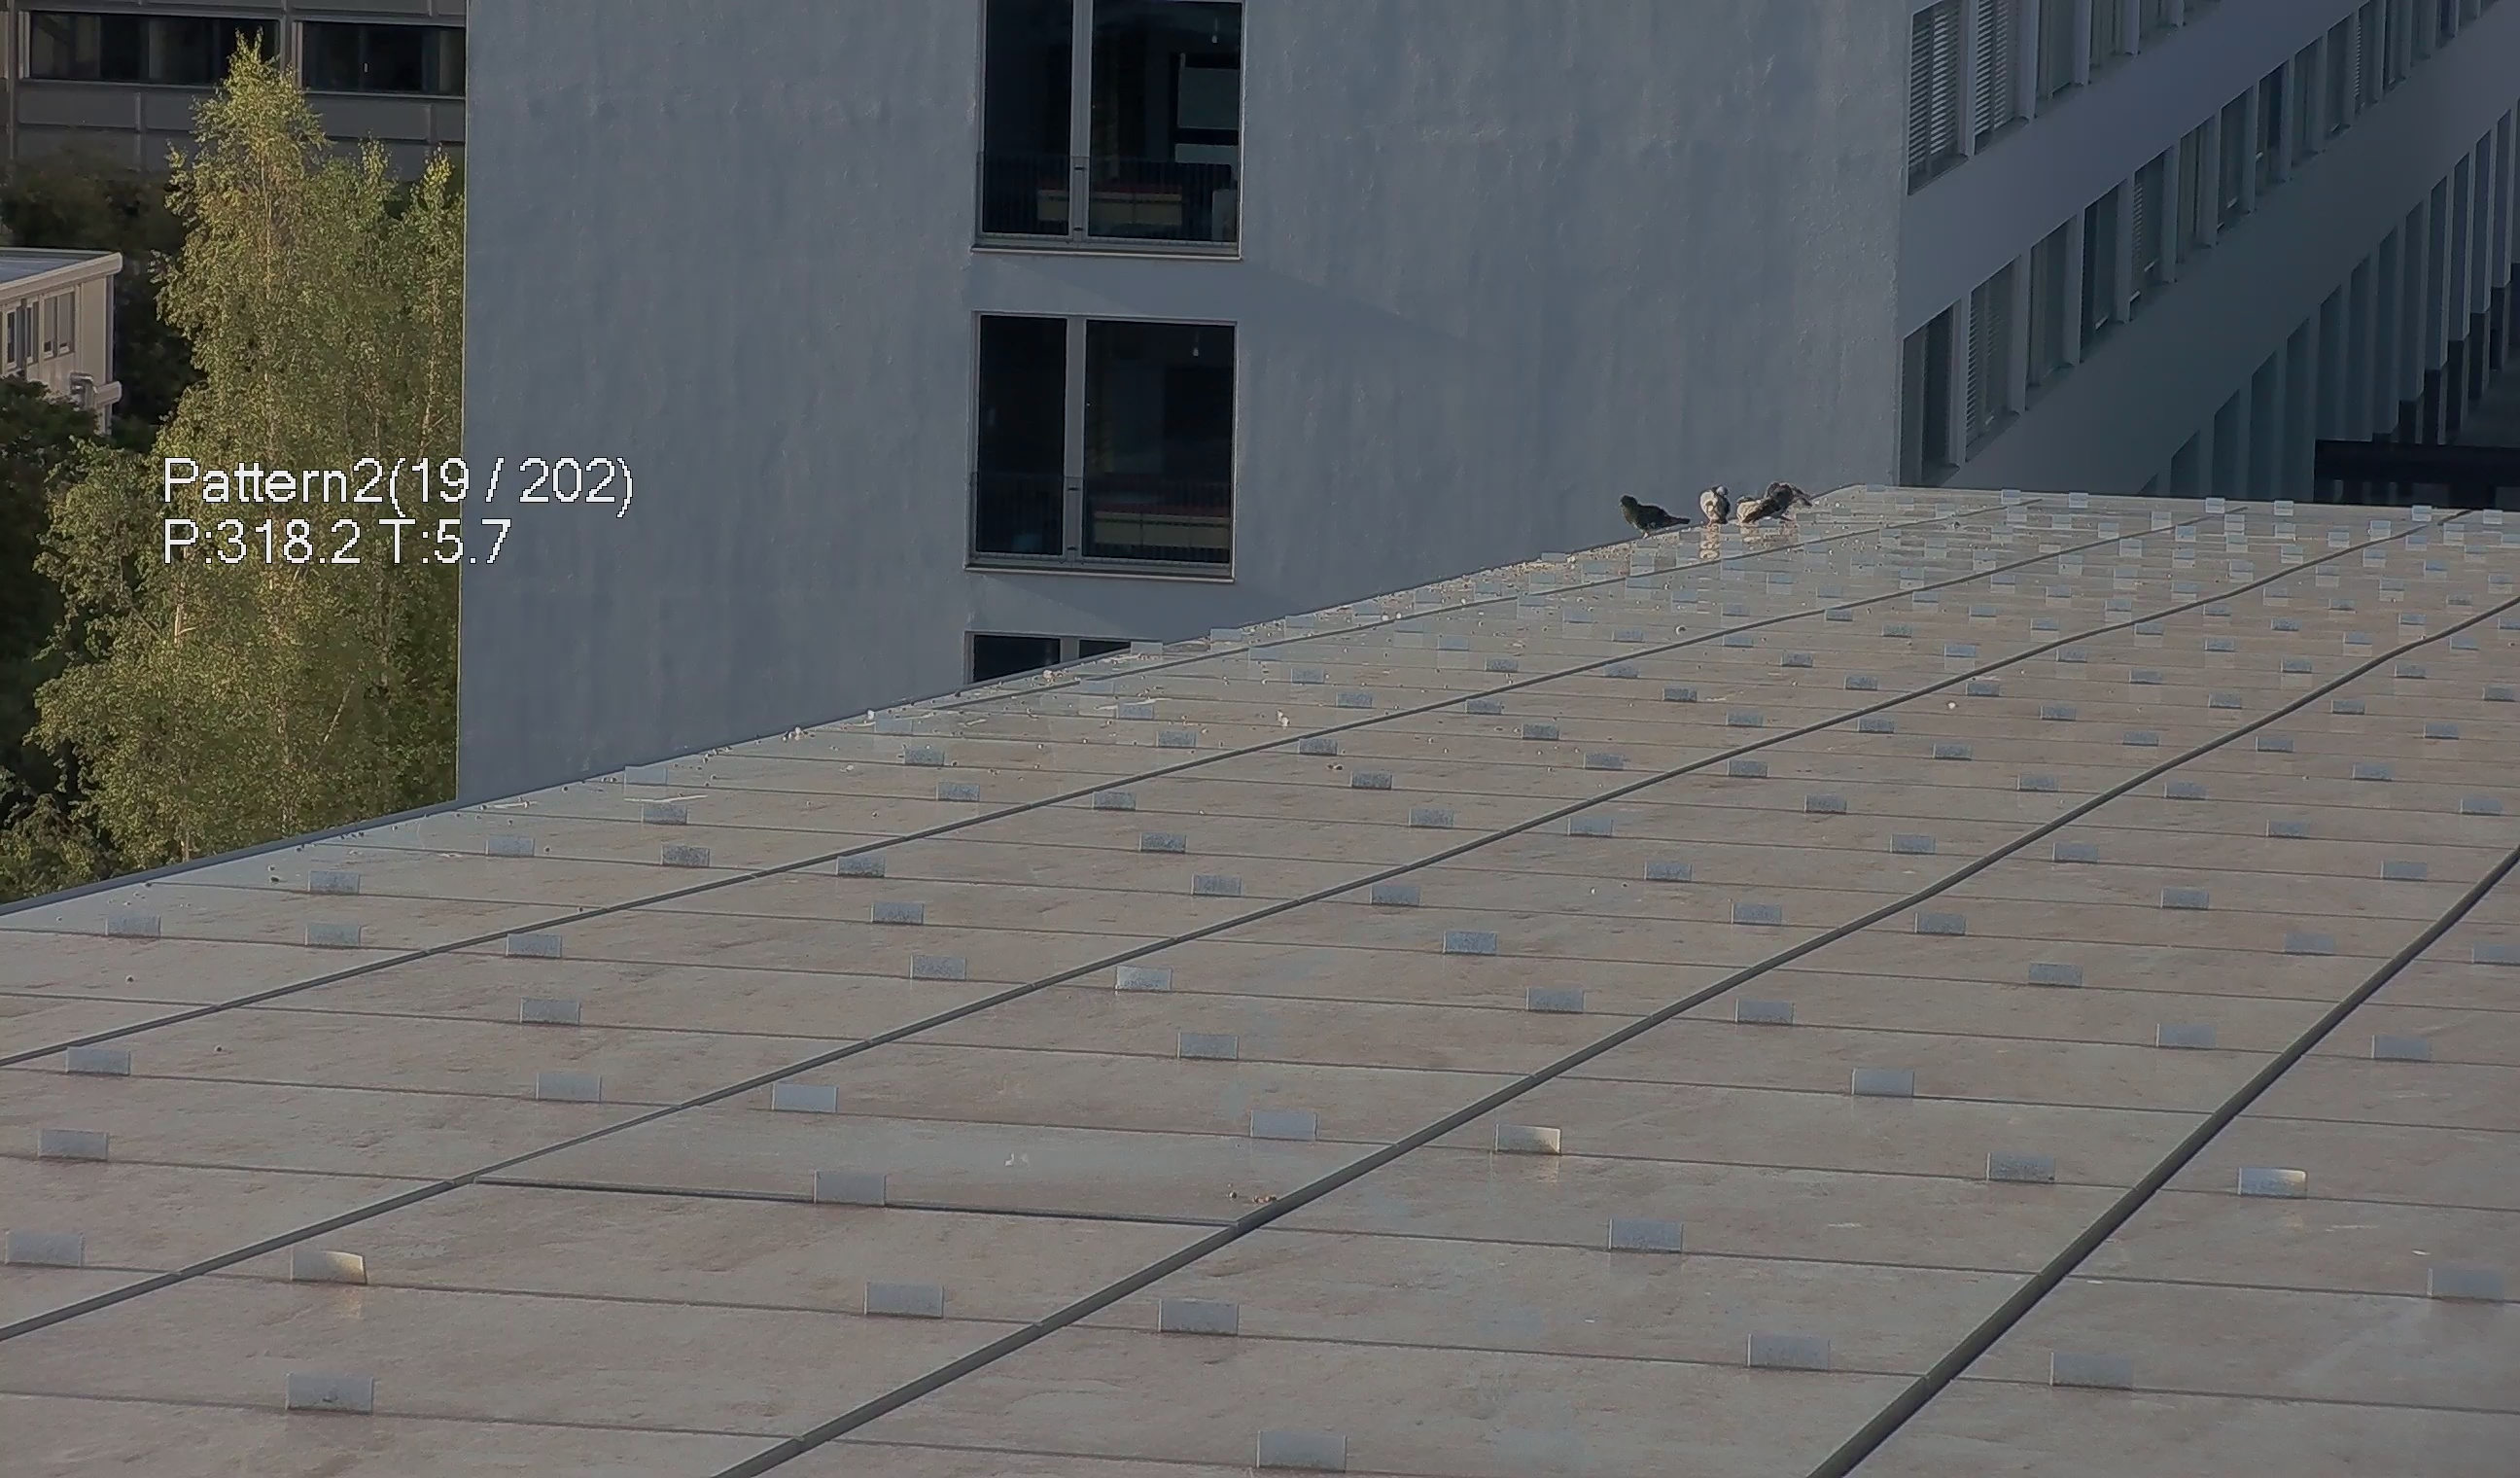Pigeon: (1729, 479, 1813, 531), (1616, 491, 1697, 544), (1690, 479, 1732, 528)
